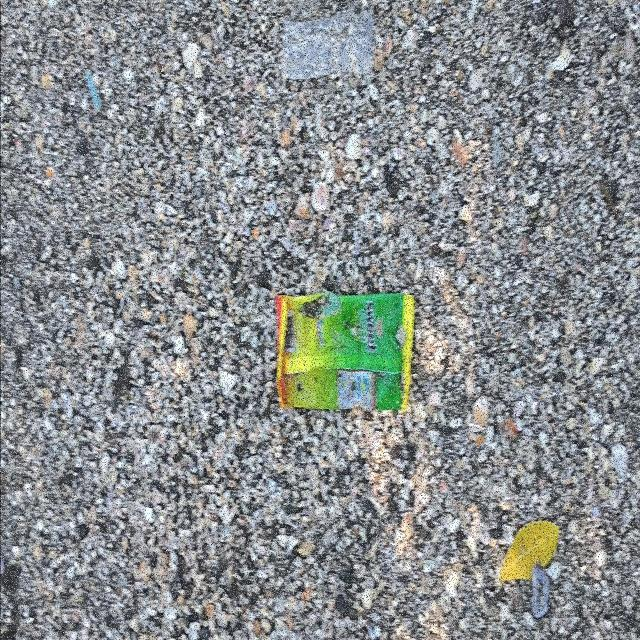plastic_waste: (274, 290, 416, 416)
